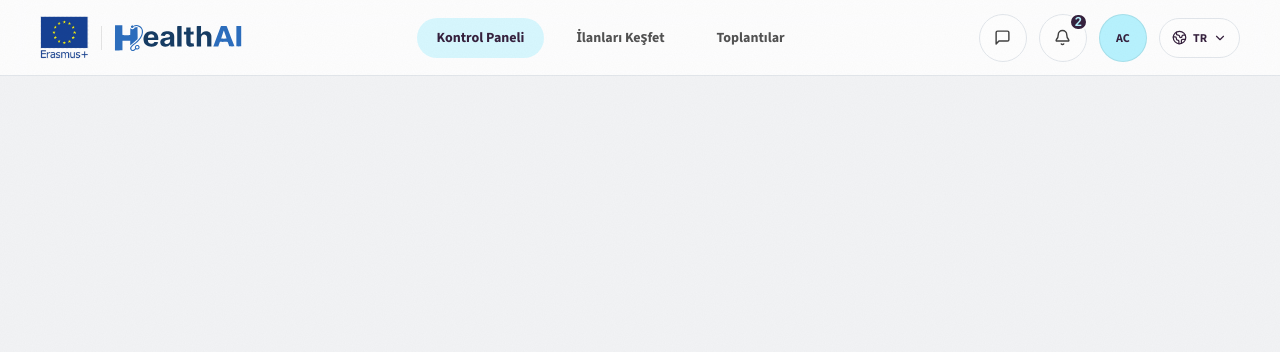
Test case: Navbar › names the role in words in the account menu
What coordinates should you click on to do the following:
click the button with aria-label "Hesap menüsü"
I would click on:
 (1123, 38)
Its box is 1099,14 -> 1147,62.
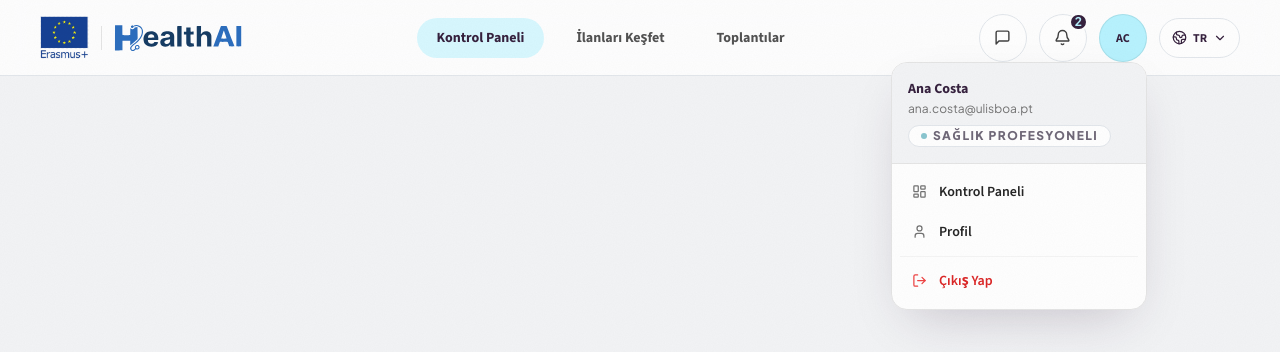
Expected: the menu does not show "healthcare_professional", 891,62 -> 1147,310
Now the menu shows "Sağlık Profesyoneli", box 933,128 -> 1098,142
